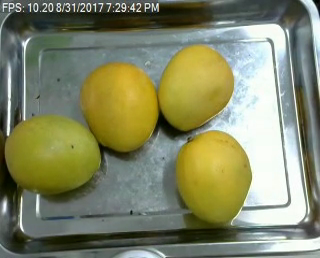Mango: (5, 113, 101, 194), (77, 62, 156, 152), (177, 129, 250, 226), (157, 41, 236, 129)
